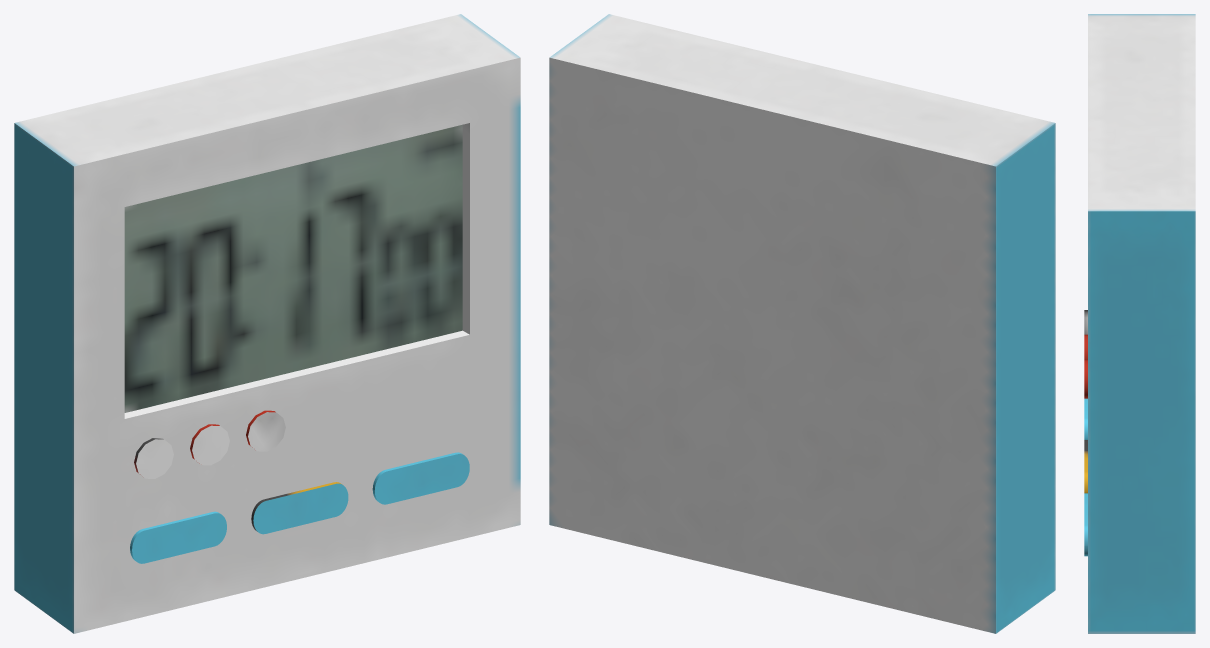
The model's file is 计时器.glb.
The picture shows the model from 3 angles, left to right: view 1: azimuth 30°, elevation 25°; view 2: azimuth 150°, elevation 25°; view 3: azimuth 270°, elevation 25°; orthographic projection. The views are drawn at different scales.
Parts seen in each view (by area): view 1: Box093, Rectangle006, Rectangle005, Rectangle004, Cylinder226, Cylinder227, Cylinder225; view 2: Box093; view 3: Box093, Rectangle006, Rectangle005.
Boxes of the visible parts, box(x1,y1,x2,y2) form: Box093: box(14, 14, 520, 633); Rectangle006: box(372, 452, 469, 504); Rectangle005: box(251, 482, 348, 534); Rectangle004: box(130, 511, 226, 563); Cylinder226: box(190, 424, 229, 465); Cylinder227: box(246, 410, 285, 451); Cylinder225: box(134, 438, 173, 478); Box093: box(549, 14, 1055, 633); Box093: box(1088, 14, 1195, 633); Rectangle006: box(1084, 493, 1087, 556); Rectangle005: box(1084, 440, 1087, 493).
Bounding box in the file's own units: 0.00581 × 0.00581 × 0.00139.
1 material, 1 textured.
